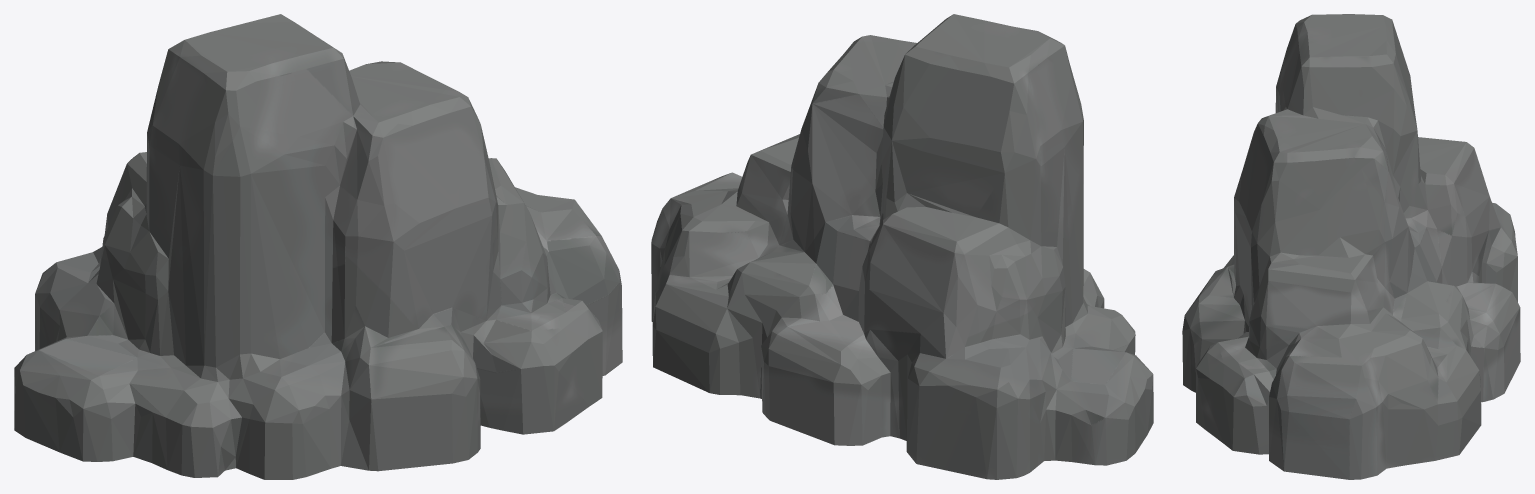
The model's file is Rock_1__Cube.002.obj.
The picture shows the model from 3 angles, left to right: view 1: azimuth 30°, elevation 25°; view 2: azimuth 150°, elevation 25°; view 3: azimuth 270°, elevation 25°; orthographic projection. The views are drawn at different scales.
Parts seen in each view (by area): view 1: Rock_1__Cube.002; view 2: Rock_1__Cube.002; view 3: Rock_1__Cube.002.
Part boxes in pixels (box(x1,y1,x2,y2)): Rock_1__Cube.002: box(14, 14, 622, 479); Rock_1__Cube.002: box(651, 14, 1153, 479); Rock_1__Cube.002: box(1182, 14, 1520, 479).
Size of the model in its own units: 2.51 by 1.62 by 1.63.
Materials: 1 (1 with a texture image).
